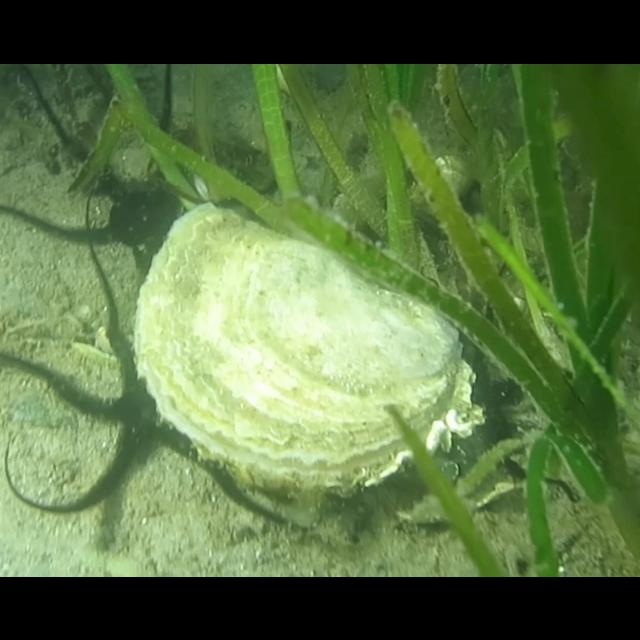Oyster-Open: (132, 199, 486, 495)
